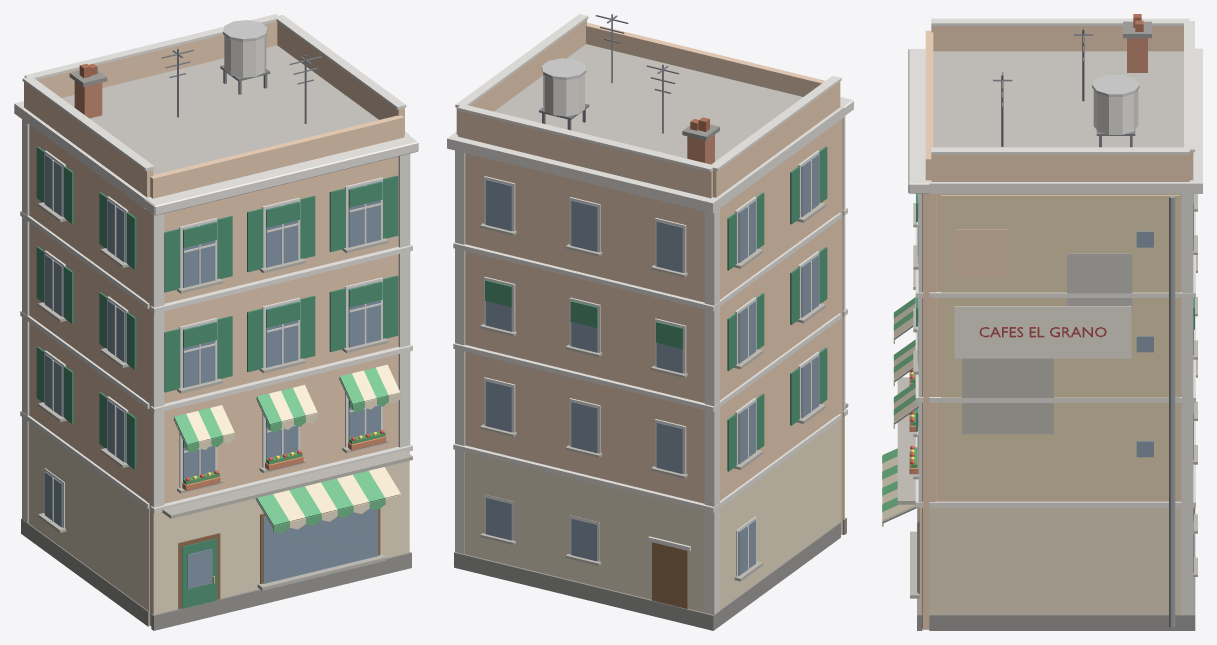
File: env_plaza_building_02.glb
3 views of the same model, side by side, from view 1: azimuth 30°, elevation 25°; view 2: azimuth 150°, elevation 25°; view 3: azimuth 270°, elevation 25° (orthographic). The views are drawn at different scales.
Visible parts, largest first — view 1: env_plaza_building_02_body; view 2: env_plaza_building_02_body; view 3: env_plaza_building_02_body.
Boxes of the visible parts, x1,y1,x2,y2 form: env_plaza_building_02_body: [14, 14, 418, 630]; env_plaza_building_02_body: [447, 14, 853, 630]; env_plaza_building_02_body: [882, 14, 1202, 630].
Size of the model in its own units: 8.39 by 14.96 by 8.33.
